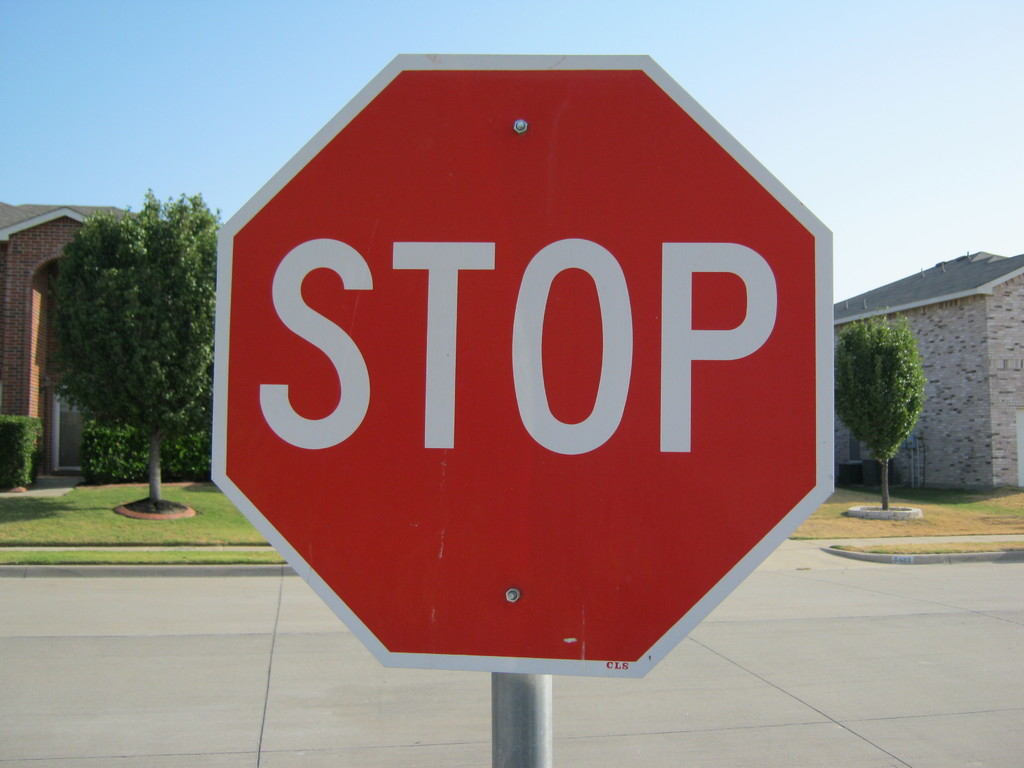stop_sign: (220, 56, 832, 671)
